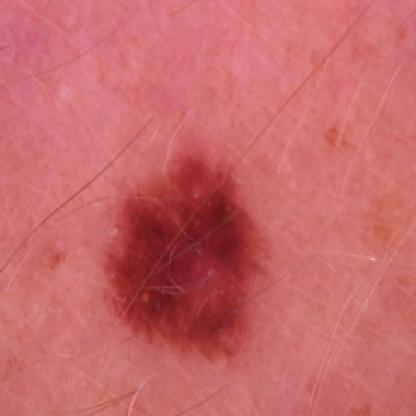benign: (108, 156, 258, 342)
